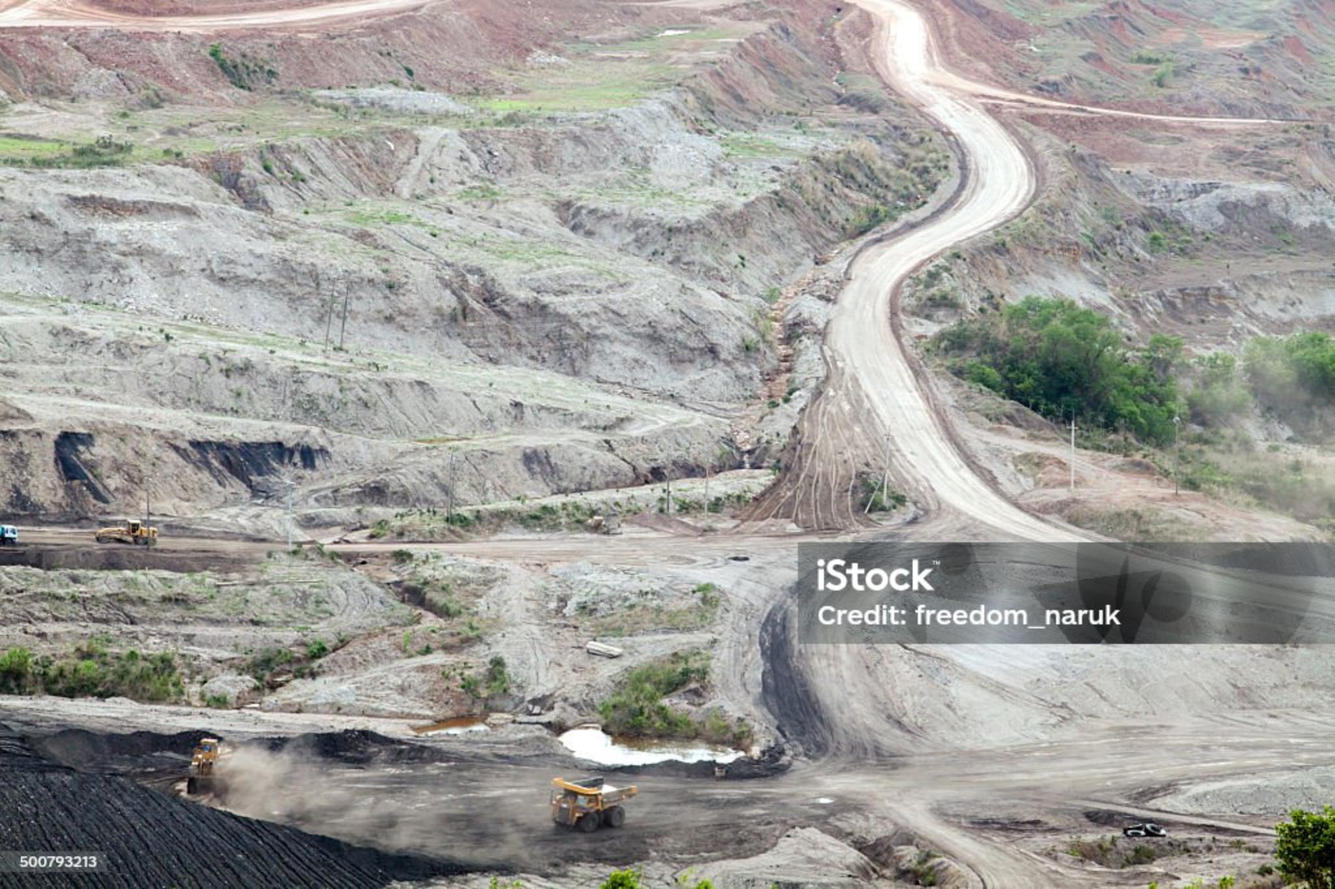benches: (216, 527, 1334, 888), (827, 0, 1081, 540)
truck: (550, 777, 636, 830), (94, 519, 156, 546)
